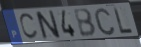4: (62, 9, 77, 38)
B: (72, 8, 98, 38)
C: (93, 6, 117, 37), (19, 12, 39, 41)
L: (112, 6, 135, 36)
N: (34, 9, 63, 42)
